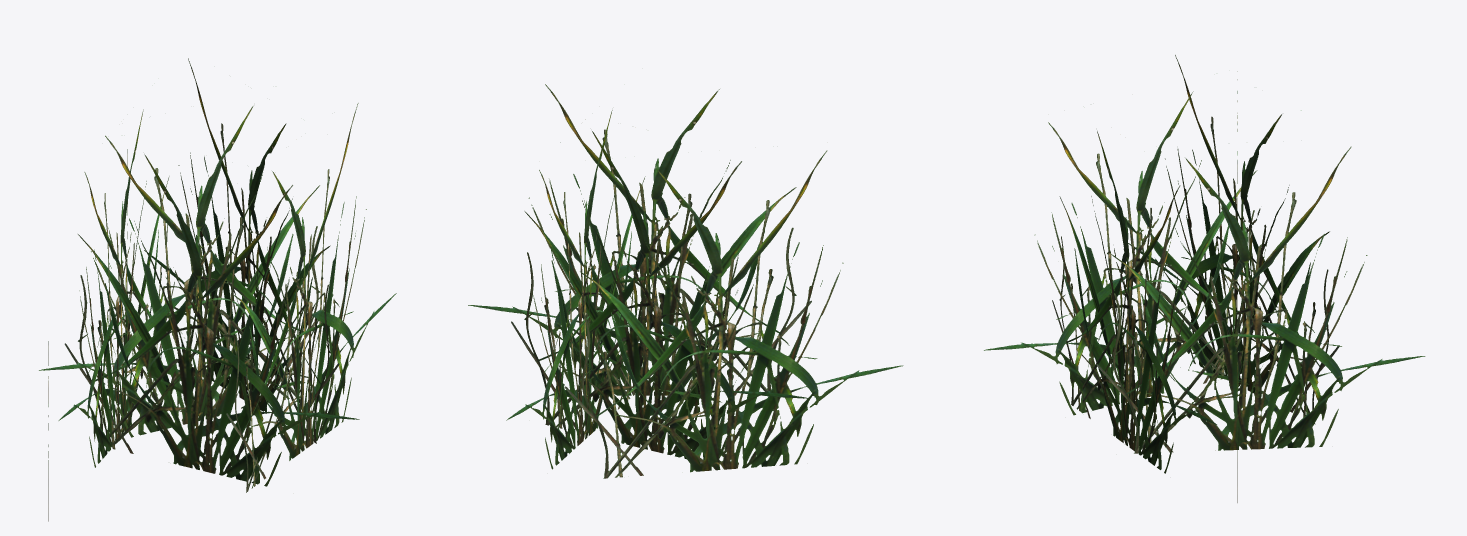
The model's file is grass4.FBX.
The picture shows the model from 3 angles, left to right: view 1: azimuth 30°, elevation 25°; view 2: azimuth 150°, elevation 25°; view 3: azimuth 270°, elevation 25°; orthographic projection. The views are drawn at different scales.
Visible parts, largest first — view 1: grass4; view 2: grass4; view 3: grass4.
Boxes of the visible parts, left/top/right/bottom form: grass4: left=39, top=58, right=396, bottom=521; grass4: left=468, top=84, right=903, bottom=478; grass4: left=984, top=55, right=1425, bottom=502.
Size of the model in its own units: 1.12 by 0.8 by 1.16.
